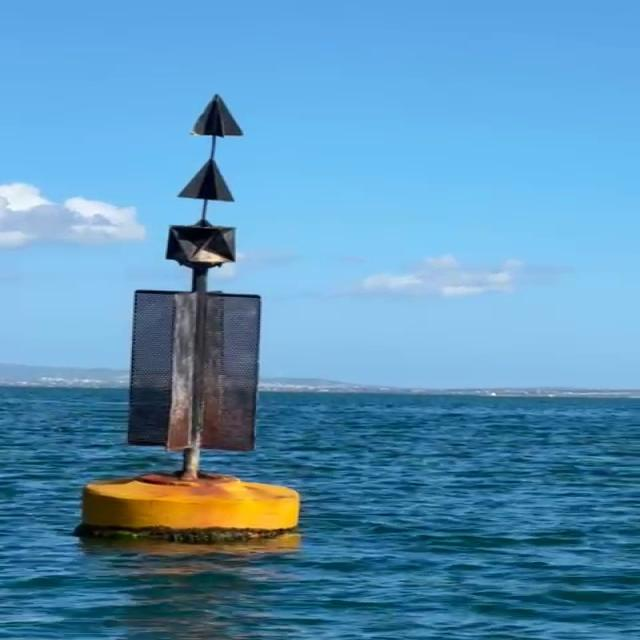marque: (79, 94, 315, 548)
